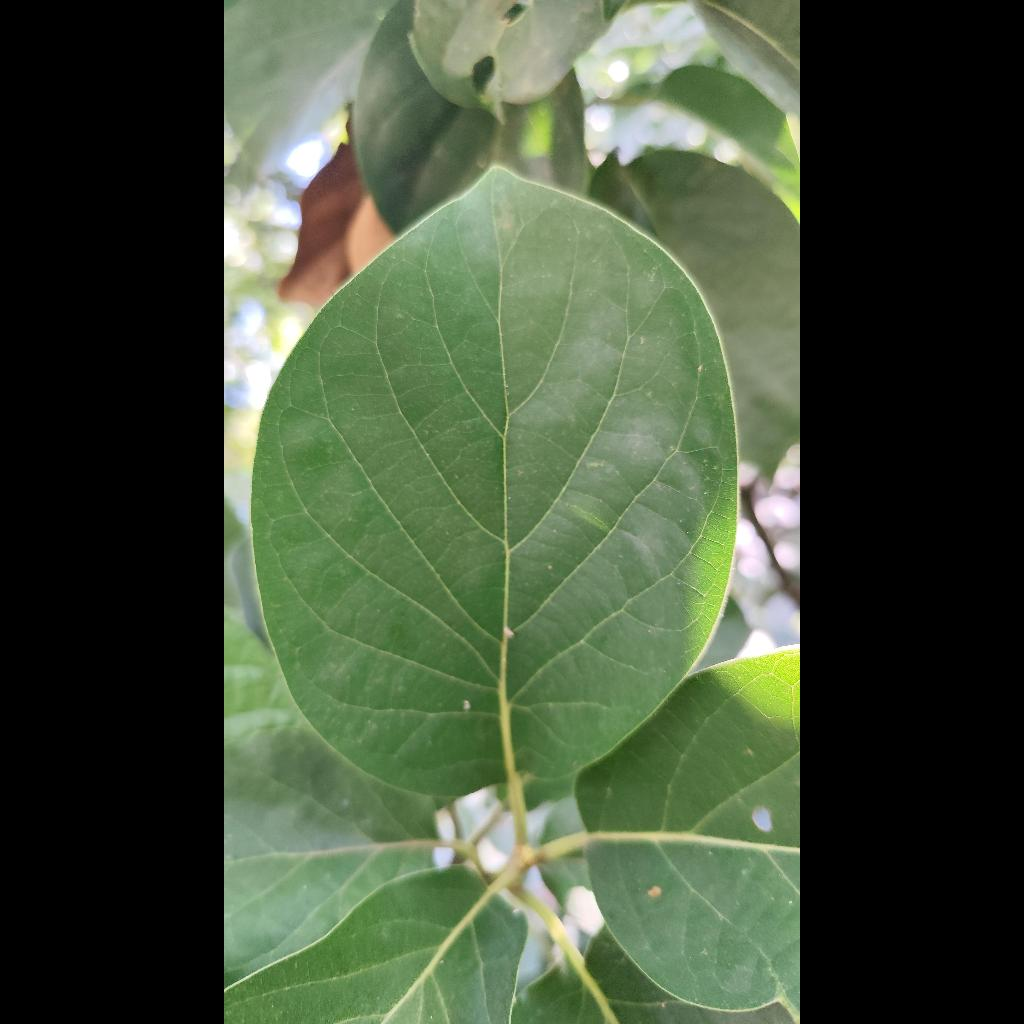hoja_sana: (252, 169, 737, 797)
